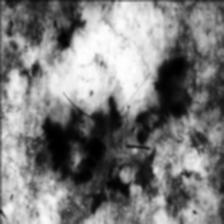Potentially Malignant Skin Tumors: (28, 102, 119, 190), (146, 25, 204, 116)
